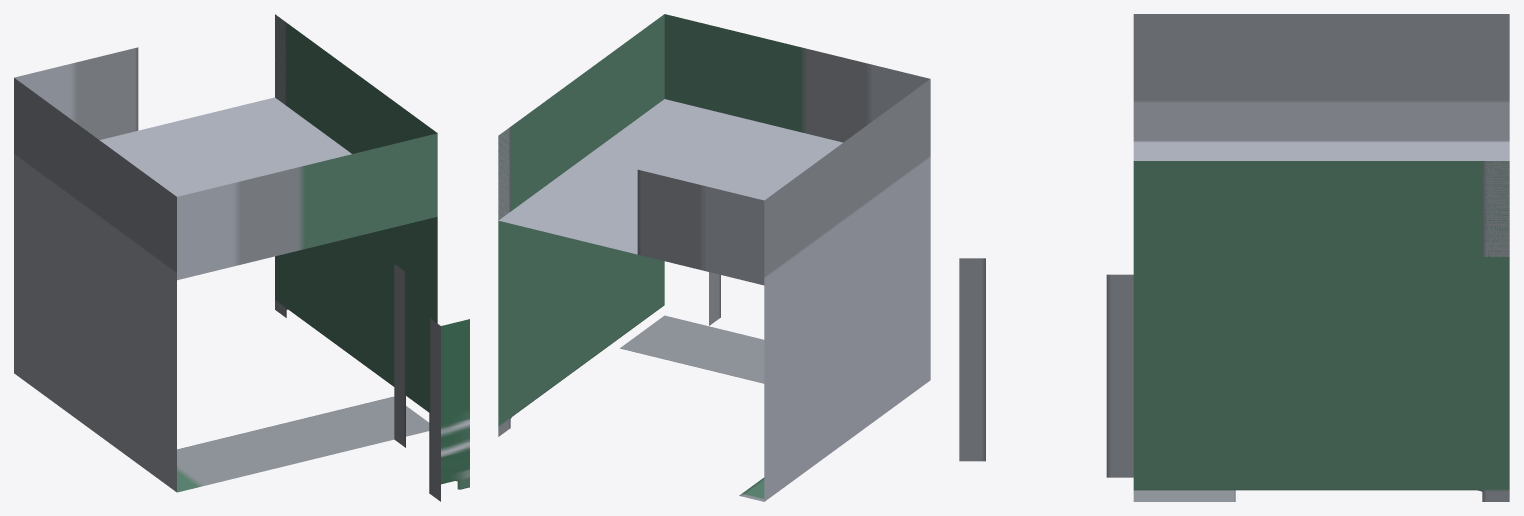
The model's file is section-1.obj.
The picture shows the model from 3 angles, left to right: view 1: azimuth 30°, elevation 25°; view 2: azimuth 150°, elevation 25°; view 3: azimuth 270°, elevation 25°; orthographic projection. The views are drawn at different scales.
Size of the model in its own units: 0.846 by 0.9165 by 1.34.
